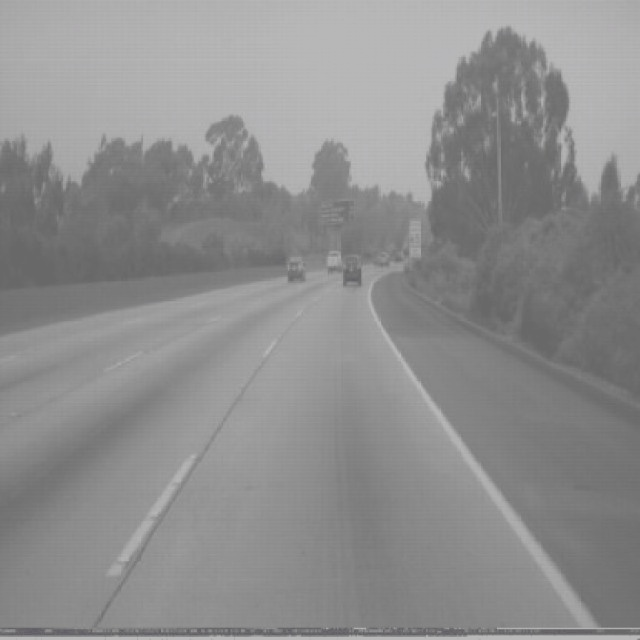speedLimit65: (409, 217, 422, 248)
